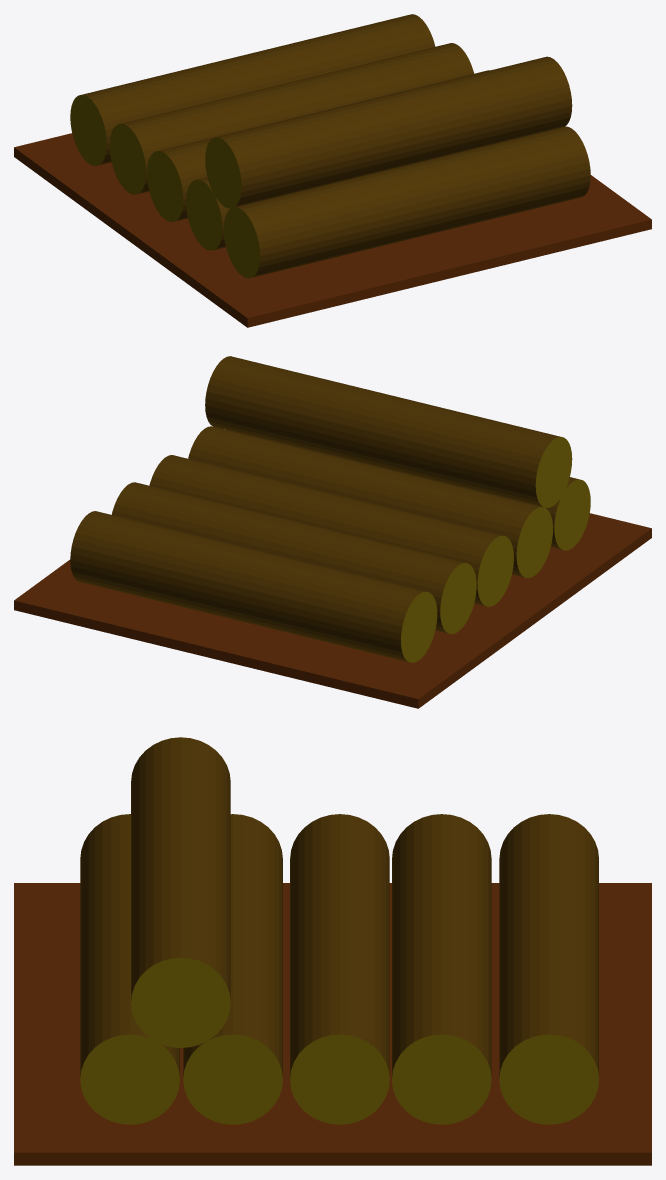
Rendered from Storage_Logs.fbx.
3 renders of one model, top to bottom at view 1: azimuth 30°, elevation 25°; view 2: azimuth 150°, elevation 25°; view 3: azimuth 270°, elevation 25°, orthographic. The views are drawn at different scales.
Visible parts, largest first — view 1: Cube; view 2: Cube; view 3: Cube.
Boxes of the visible parts, x1=… form: Cube: x1=14, y1=14, x2=651, y2=327; Cube: x1=14, y1=356, x2=651, y2=708; Cube: x1=14, y1=737, x2=651, y2=1165.
Bounding box in the file's own units: 10.52 × 3.34 × 10.52.
